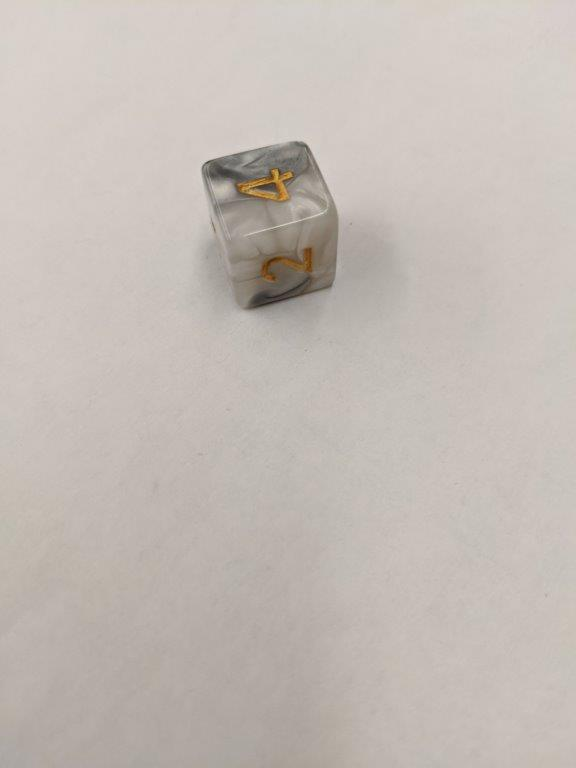d6-4: (202, 139, 340, 312)
